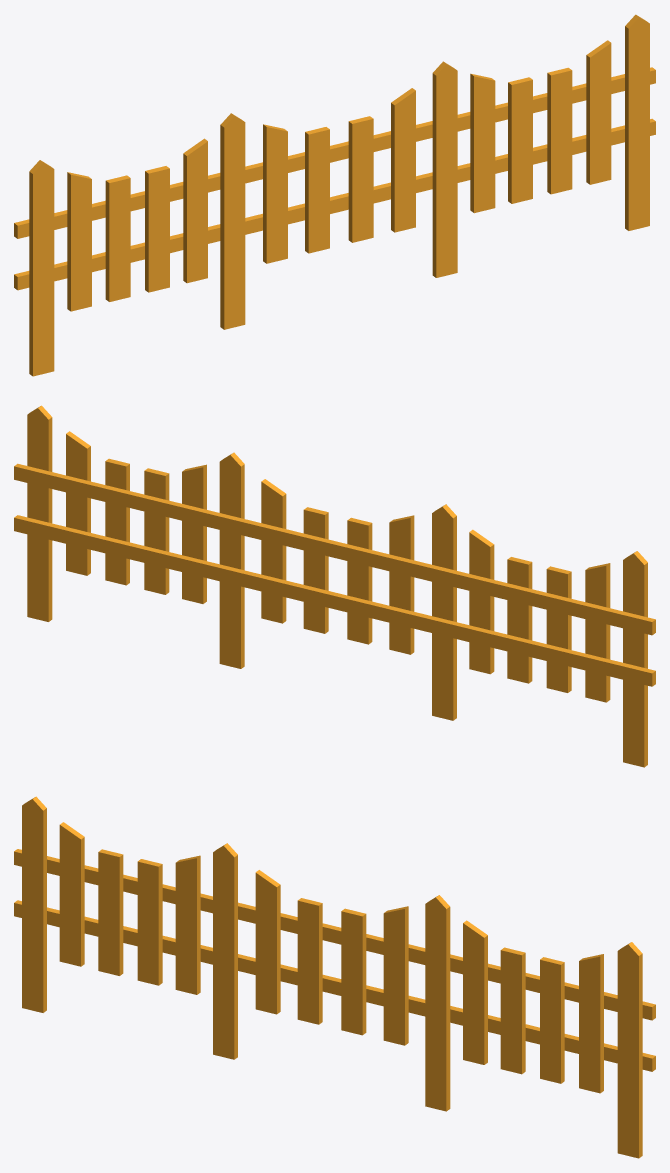
File: SM_Fence_Picket_White_3m.fbx
3 renders of one model, top to bottom at view 1: azimuth 30°, elevation 25°; view 2: azimuth 150°, elevation 25°; view 3: azimuth 330°, elevation 25°, orthographic.
Visible parts, largest first — view 1: fence-picket-white-3m; view 2: fence-picket-white-3m; view 3: fence-picket-white-3m.
Part boxes in pixels (x1,y1,x2,y2): fence-picket-white-3m: [14, 14, 655, 376]; fence-picket-white-3m: [14, 405, 655, 767]; fence-picket-white-3m: [14, 796, 655, 1158].
Size of the model in its own units: 3 by 0.9499 by 0.06.
